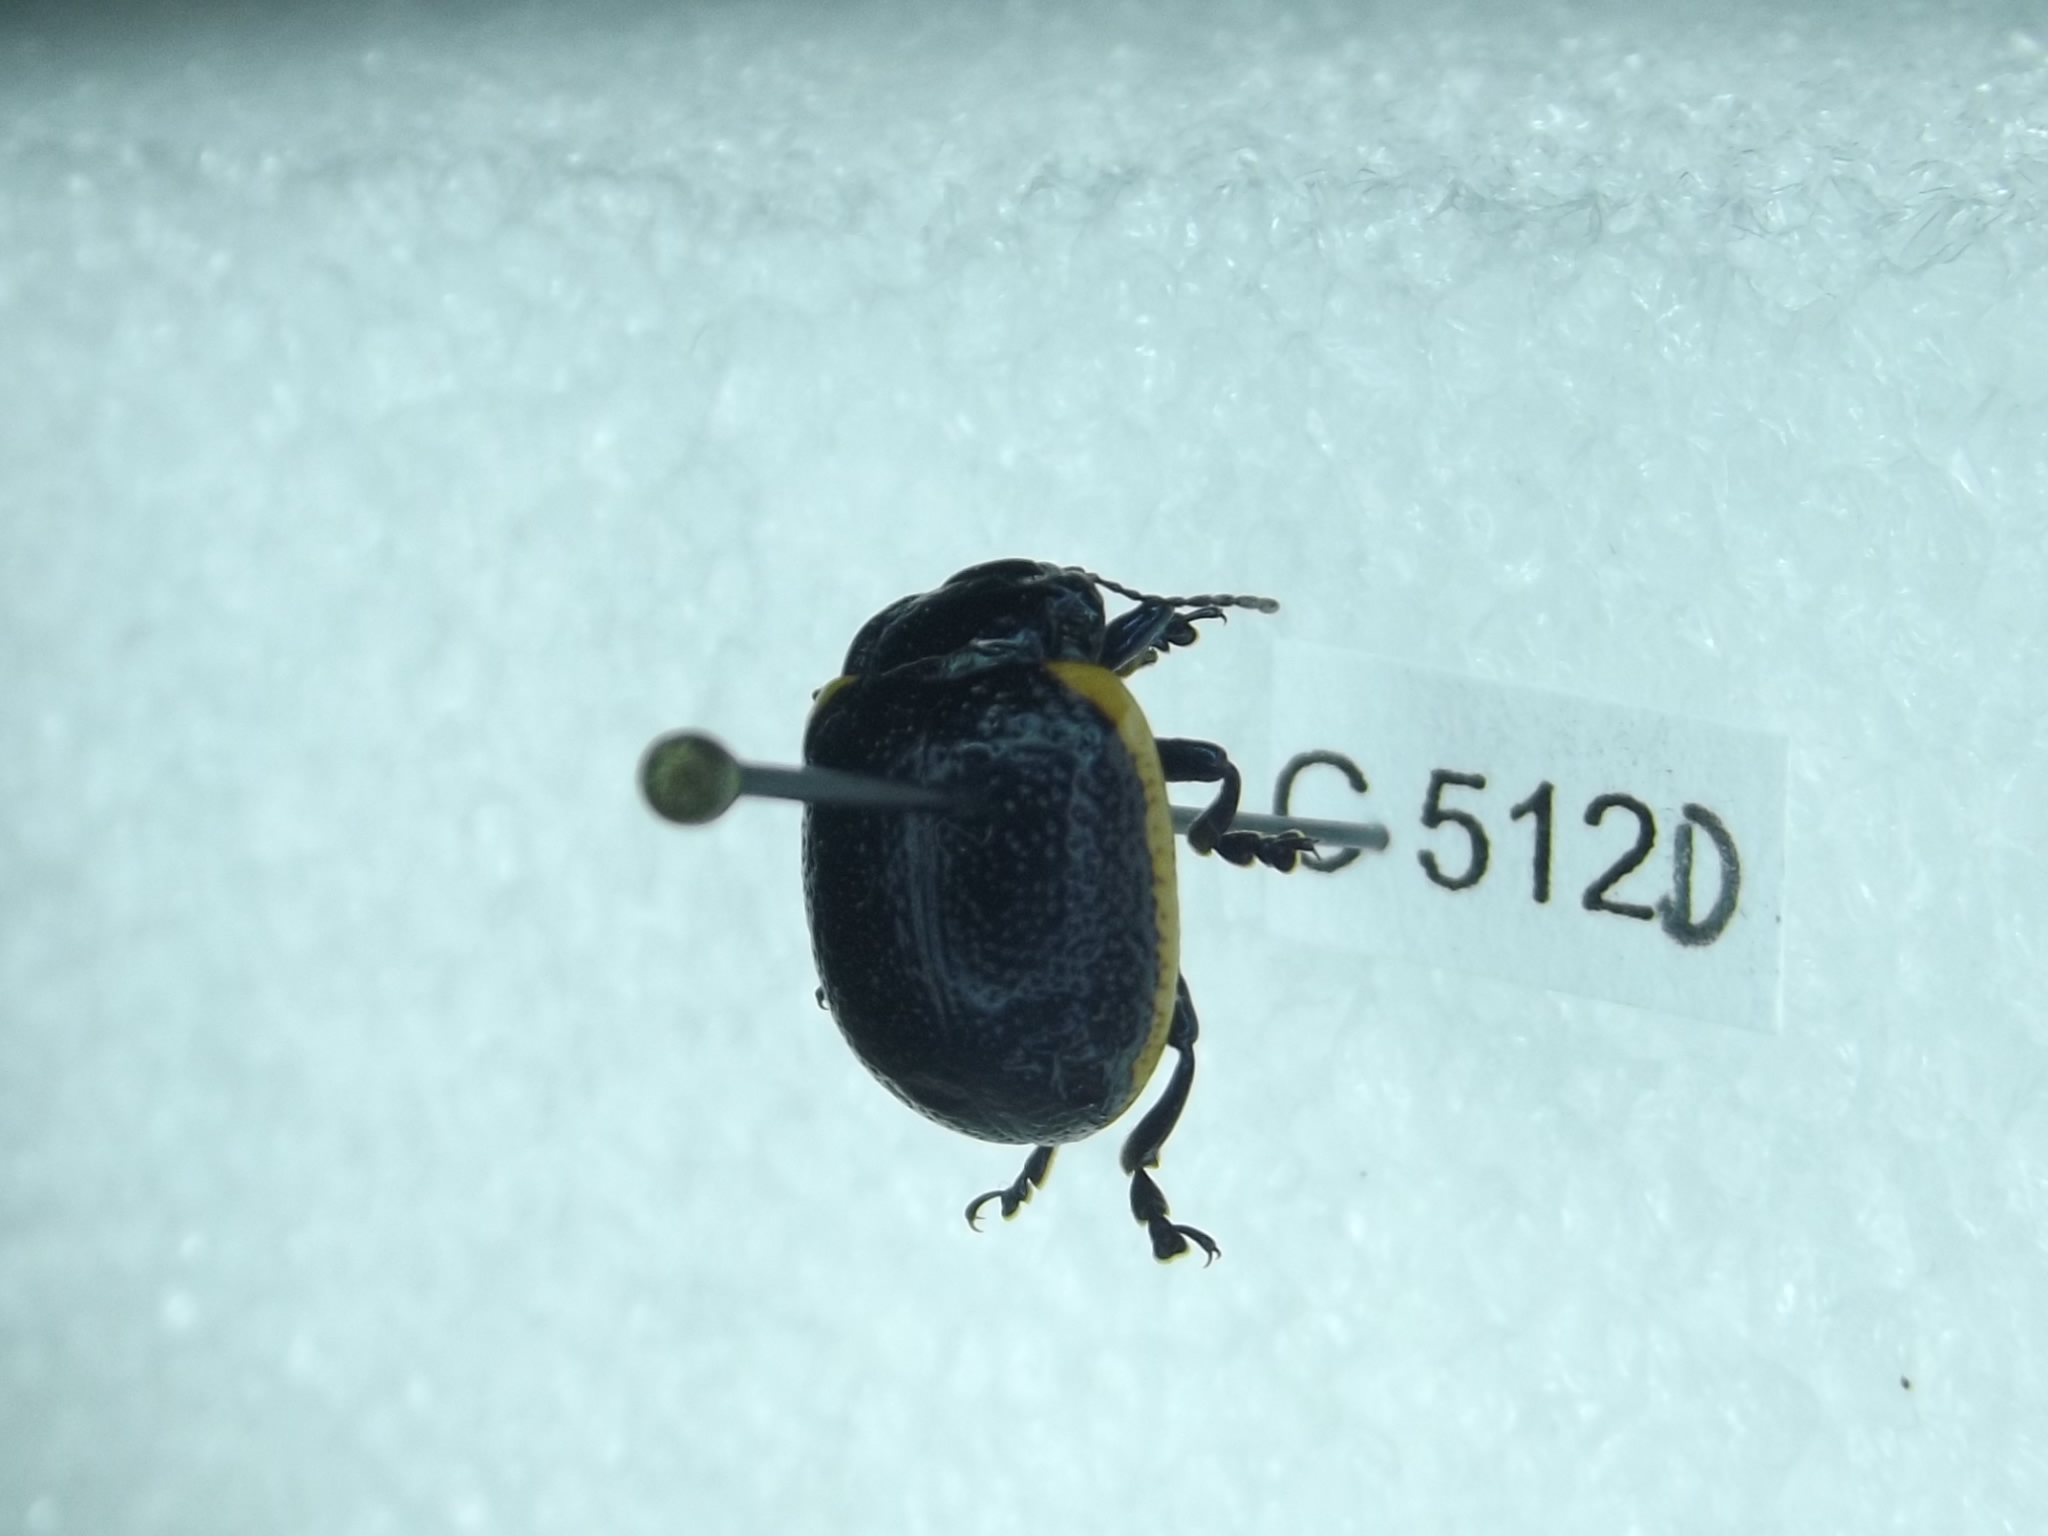Chrysolina_gypsophila: (790, 526, 1293, 1270)
